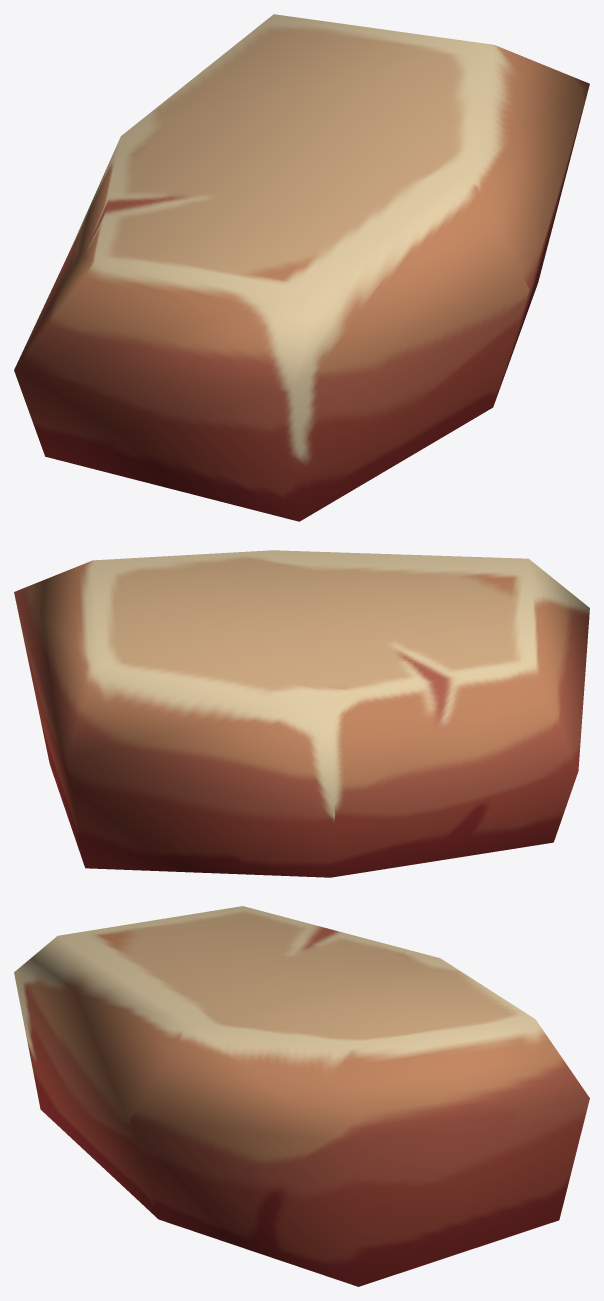
The model's file is stone_04.fbx.
The picture shows the model from 3 angles, top to bottom: view 1: azimuth 30°, elevation 25°; view 2: azimuth 150°, elevation 25°; view 3: azimuth 270°, elevation 25°; orthographic projection. The views are drawn at different scales.
Parts seen in each view (by area): view 1: pCube7.002; view 2: pCube7.002; view 3: pCube7.002.
Part boxes in pixels (x1=…): pCube7.002: x1=14, y1=14, x2=589, y2=521; pCube7.002: x1=14, y1=550, x2=589, y2=877; pCube7.002: x1=14, y1=906, x2=589, y2=1286.
Bounding box in the file's own units: 47.64 × 18.39 × 44.2.
